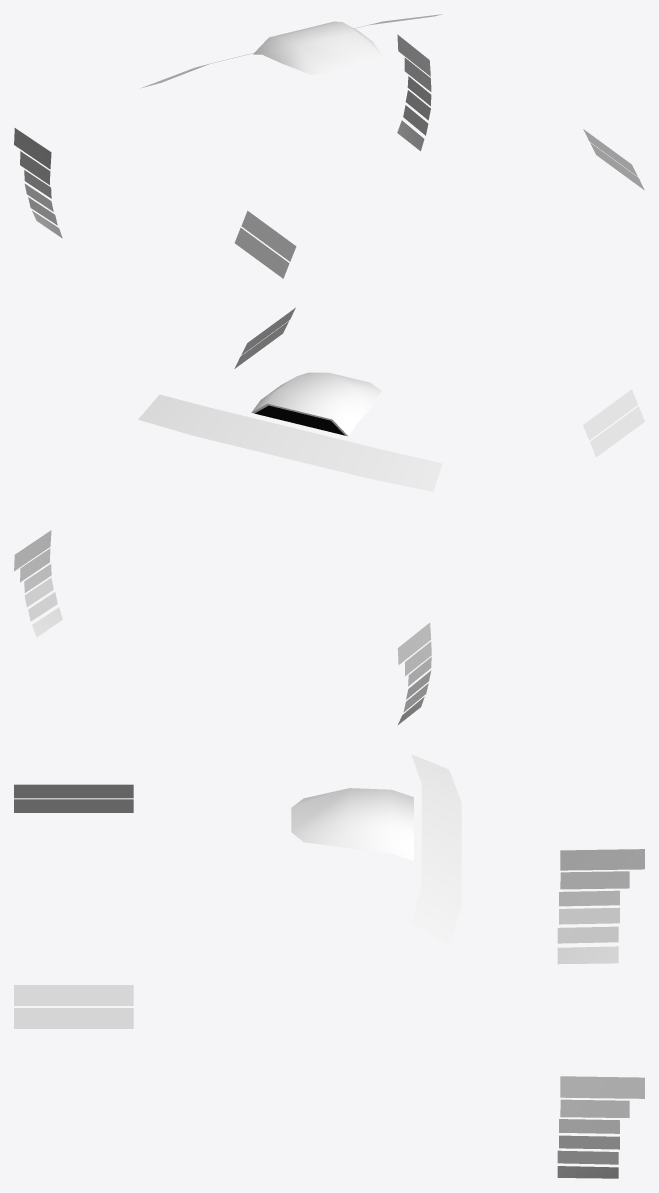
3 renders of one model, top to bottom at view 1: azimuth 30°, elevation 25°; view 2: azimuth 150°, elevation 25°; view 3: azimuth 270°, elevation 25°, orthographic. The views are drawn at different scales.
Visible parts, largest first — view 1: rf_a_f; view 2: rf_a_f; view 3: rf_a_f.
Boxes of the visible parts, bbox=[...] form: rf_a_f: bbox=[14, 14, 644, 278]; rf_a_f: bbox=[14, 307, 644, 724]; rf_a_f: bbox=[14, 754, 644, 1178].
Size of the model in its own units: 1.9 by 1.03 by 2.21.
3 materials, 2 textured.
